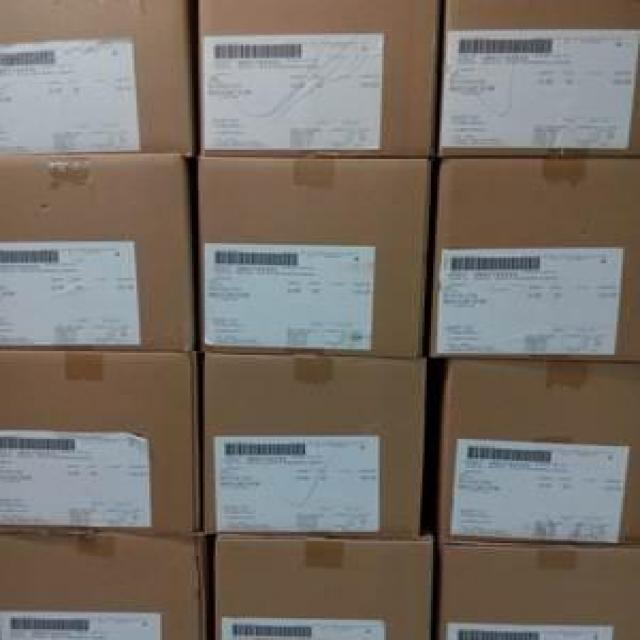box: (194, 147, 449, 364), (192, 345, 424, 544), (433, 159, 640, 361), (195, 0, 457, 158), (0, 161, 205, 360), (430, 356, 640, 548), (0, 354, 200, 538), (430, 0, 640, 157), (0, 0, 199, 162), (215, 530, 441, 640), (0, 529, 214, 640), (442, 545, 640, 640)
